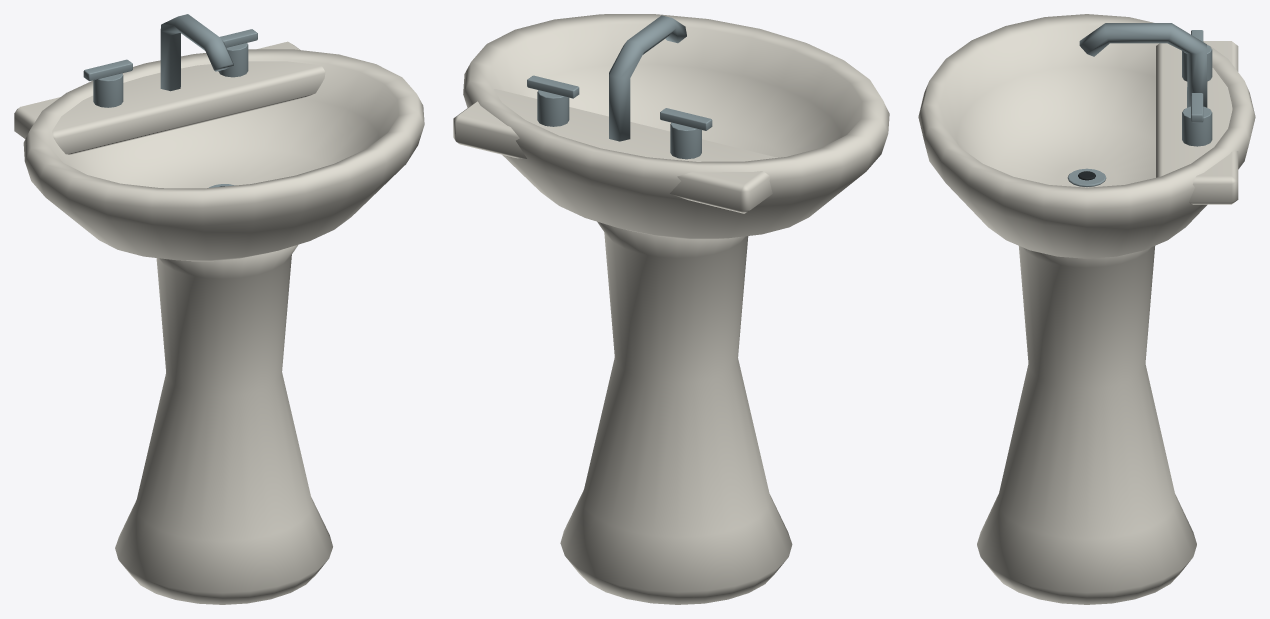
File: S041_pedestal_sink_rebuilt.glb
The picture shows the model from 3 angles, left to right: view 1: azimuth 30°, elevation 25°; view 2: azimuth 150°, elevation 25°; view 3: azimuth 270°, elevation 25°; orthographic projection. The views are drawn at different scales.
Visible parts, largest first — view 1: Glazed_white_porcelain, Brushed_steel; view 2: Glazed_white_porcelain, Brushed_steel; view 3: Glazed_white_porcelain, Brushed_steel.
Boxes of the visible parts, box(x1,y1,x2,y2) form: Glazed_white_porcelain: box(14, 41, 424, 604); Brushed_steel: box(83, 14, 257, 187); Glazed_white_porcelain: box(453, 14, 889, 604); Brushed_steel: box(527, 15, 712, 159); Glazed_white_porcelain: box(918, 14, 1255, 604); Brushed_steel: box(1067, 23, 1212, 187).
Size of the model in its own units: 0.8 by 1.08 by 0.613.
